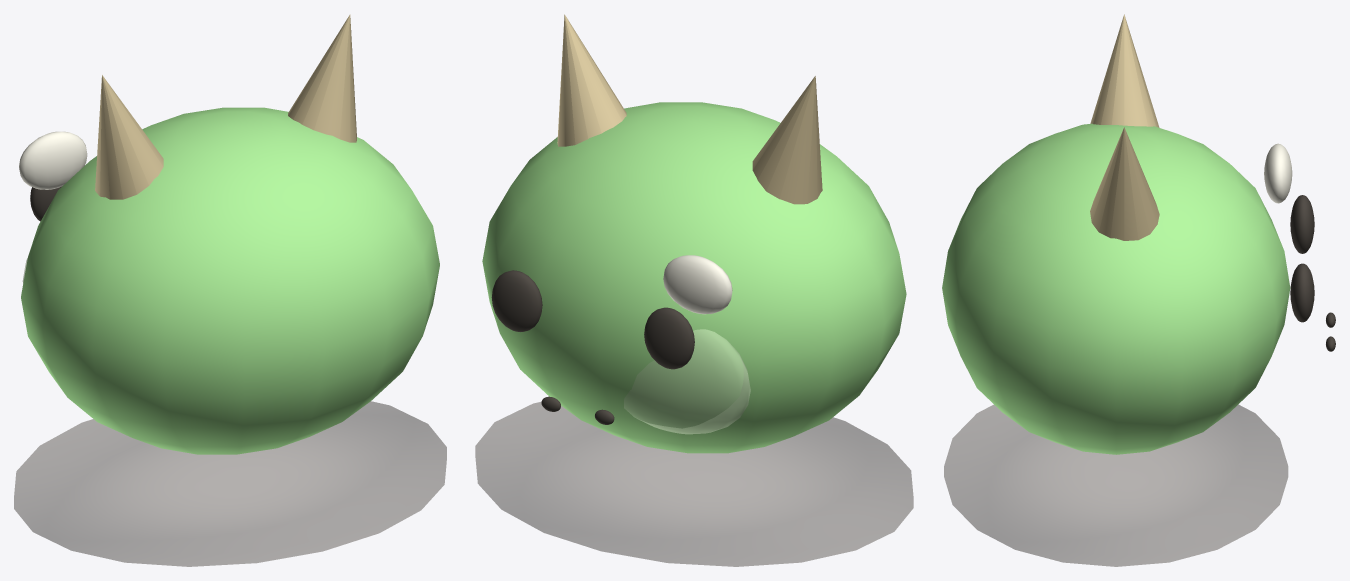
The model's file is blob_grunt.glb.
3 views of the same model, side by side, from view 1: azimuth 30°, elevation 25°; view 2: azimuth 150°, elevation 25°; view 3: azimuth 270°, elevation 25° (orthographic). The views are drawn at different scales.
Visible parts, largest first — view 1: body, shadow, horn-l, horn-r, shine, eye-l; view 2: body, shadow, belly-brush, horn-l, horn-r, shine, eye-l, eye-r; view 3: body, shadow, horn-r, horn-l, shine, eye-r, eye-l.
Part boxes in pixels (left/top/right/bottom): body: left=21, top=107, right=439, bottom=454; shadow: left=14, top=401, right=446, bottom=566; horn-l: left=95, top=75, right=163, bottom=199; horn-r: left=288, top=14, right=356, bottom=142; shine: left=19, top=131, right=87, bottom=189; eye-l: left=30, top=186, right=62, bottom=221; body: left=482, top=102, right=906, bottom=453; shadow: left=475, top=402, right=913, bottom=566; belly-brush: left=624, top=329, right=750, bottom=434; horn-l: left=752, top=76, right=822, bottom=204; horn-r: left=557, top=14, right=626, bottom=146; shine: left=663, top=255, right=732, bottom=314; eye-l: left=644, top=307, right=694, bottom=369; eye-r: left=491, top=270, right=542, bottom=331; body: left=942, top=123, right=1290, bottom=454; shadow: left=944, top=404, right=1288, bottom=566; horn-r: left=1090, top=127, right=1159, bottom=240; horn-l: left=1090, top=14, right=1159, bottom=127; shine: left=1264, top=143, right=1292, bottom=203; eye-r: left=1290, top=263, right=1314, bottom=322; eye-l: left=1290, top=195, right=1314, bottom=253.
Size of the model in its own units: 1.05 by 1.11 by 0.9725.
